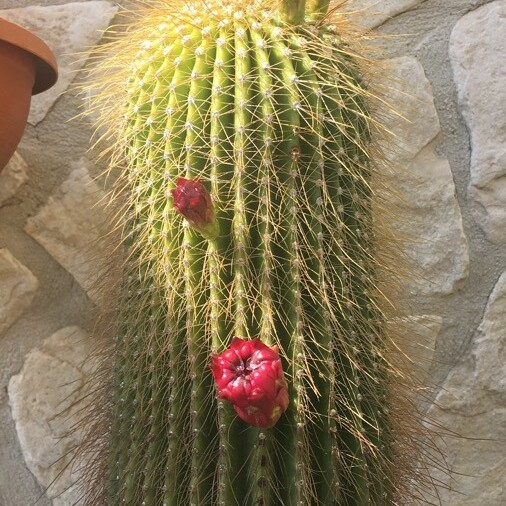obstacle: (113, 39, 383, 476)
